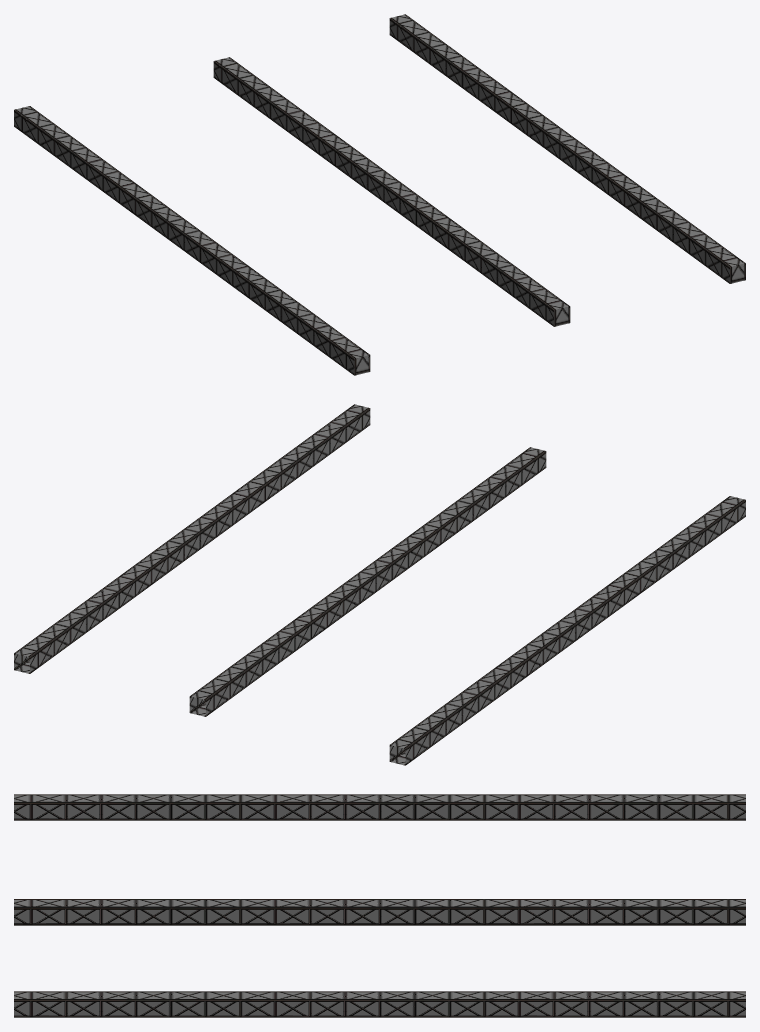
The model's file is Space_Pod_BAKED_transparent.glb.
3 views of the same model, one above another, from view 1: azimuth 30°, elevation 25°; view 2: azimuth 150°, elevation 25°; view 3: azimuth 270°, elevation 25° (orthographic). The views are drawn at different scales.
Visible parts, largest first — view 1: Space_Pod_truss; view 2: Space_Pod_truss; view 3: Space_Pod_truss.
Part boxes in pixels (box(x1,y1,x2,y2)): Space_Pod_truss: box(14, 14, 745, 375); Space_Pod_truss: box(14, 404, 745, 765); Space_Pod_truss: box(14, 794, 745, 1017).
Bounding box in the file's own units: 7.2 × 0.2965 × 10.84.
1 material, 1 textured.
